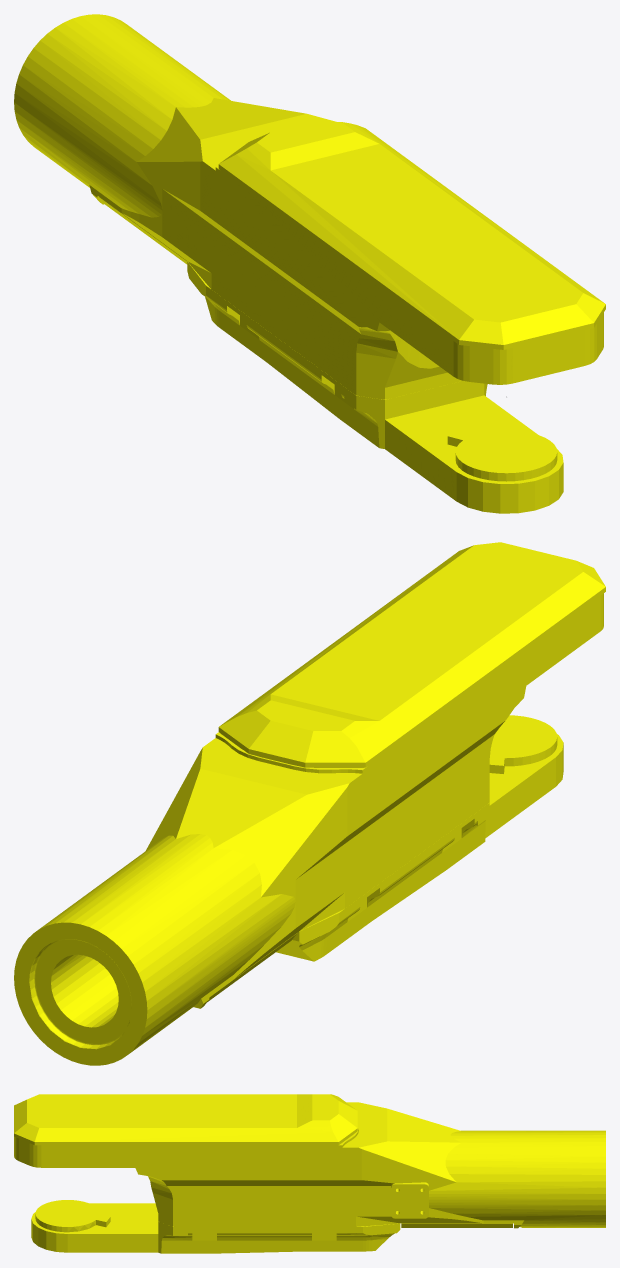
3 views of the same model, one above another, from view 1: azimuth 30°, elevation 25°; view 2: azimuth 150°, elevation 25°; view 3: azimuth 270°, elevation 25° (orthographic). The views are drawn at different scales.
Parts seen in each view (by area): view 1: node; view 2: node; view 3: node.
Boxes of the visible parts, bbox=[...] form: node: bbox=[14, 14, 605, 513]; node: bbox=[14, 542, 605, 1065]; node: bbox=[14, 1094, 605, 1253].
Size of the model in its own units: 130 by 174 by 717.
